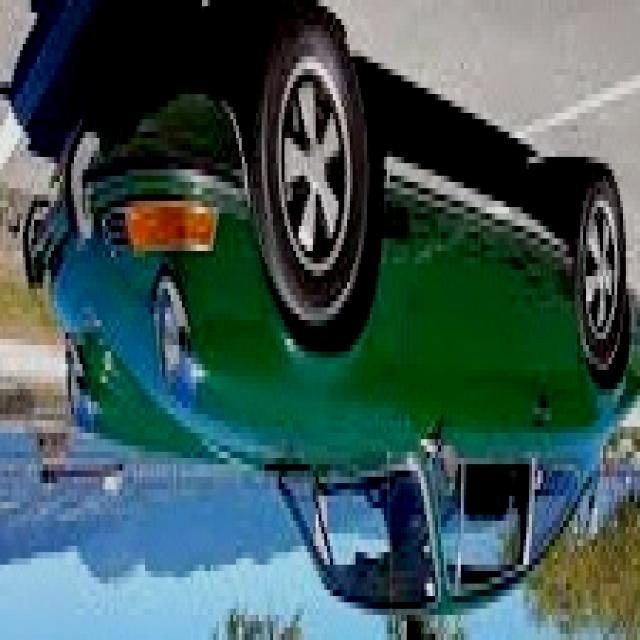green: (36, 56, 640, 636)
